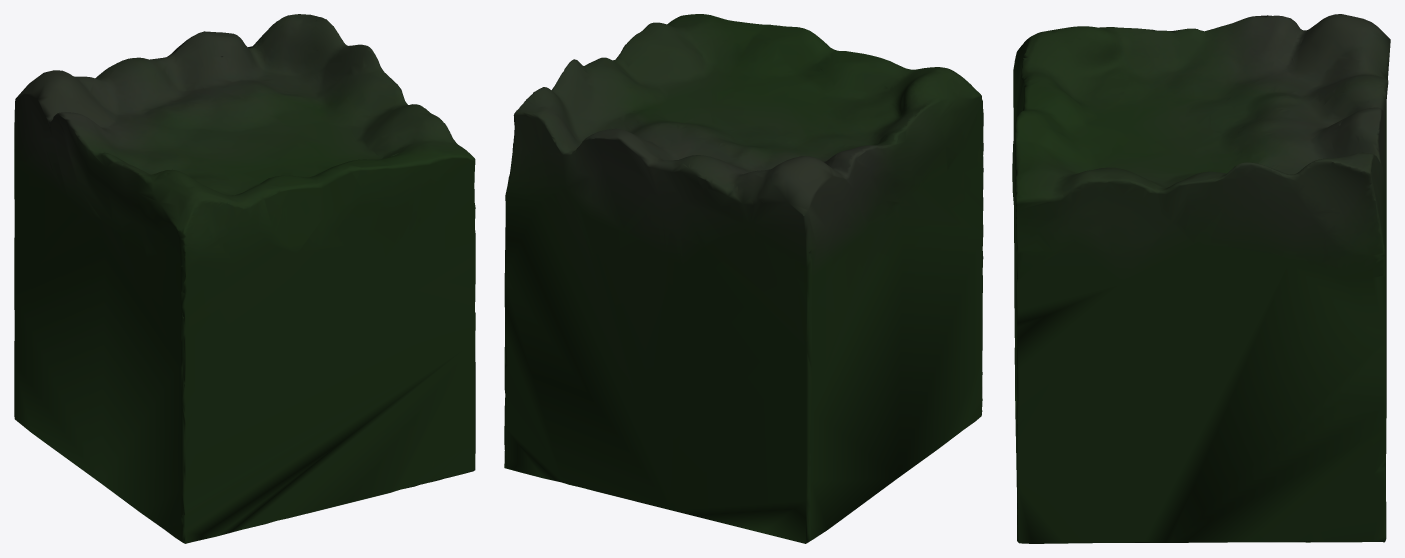
The model's file is ams_stage.gltf.
3 views of the same model, side by side, from view 1: azimuth 30°, elevation 25°; view 2: azimuth 150°, elevation 25°; view 3: azimuth 270°, elevation 25° (orthographic). The views are drawn at different scales.
Parts seen in each view (by area): view 1: Layer_1; view 2: Layer_1; view 3: Layer_1.
Boxes of the visible parts, x1,y1,x2,y2 form: Layer_1: (14, 14, 475, 543); Layer_1: (504, 14, 983, 543); Layer_1: (1012, 14, 1390, 543).
Size of the model in its own units: 38.71 by 43.46 by 38.79.
